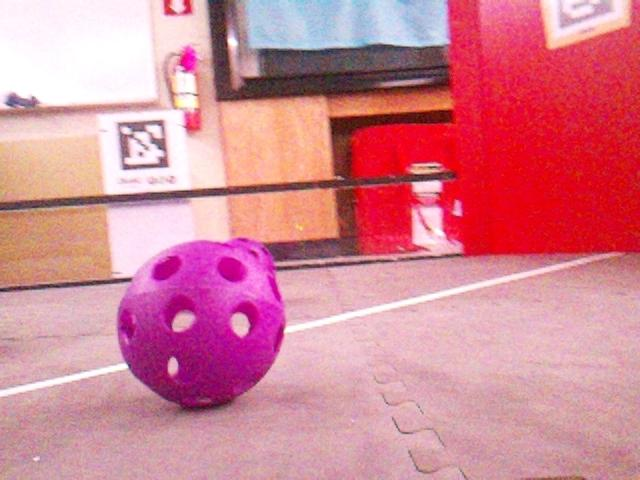Purple: (115, 240, 288, 413), (224, 237, 277, 277)
